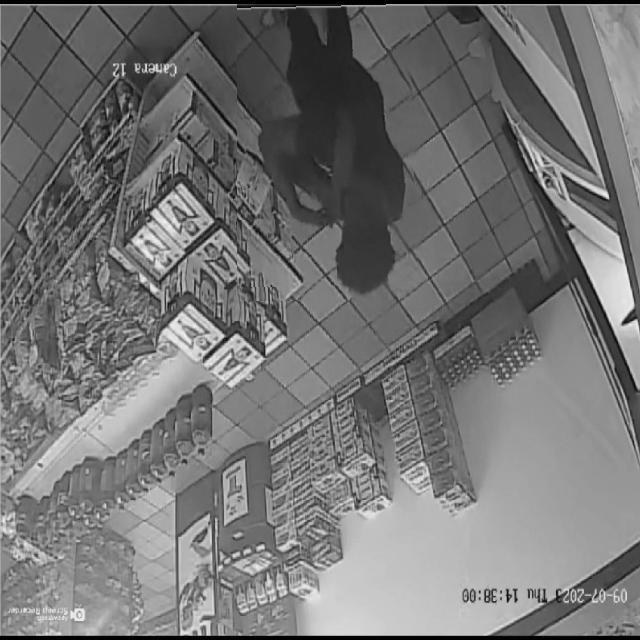normal: (237, 0, 418, 301)
